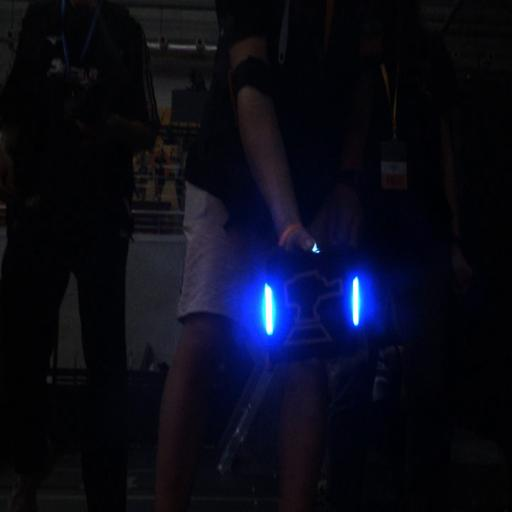target: (261, 262, 366, 360)
